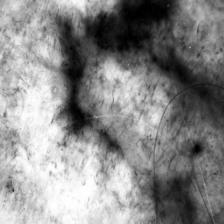Potentially Malignant Skin Tumors: (81, 0, 175, 64), (45, 66, 104, 146)
